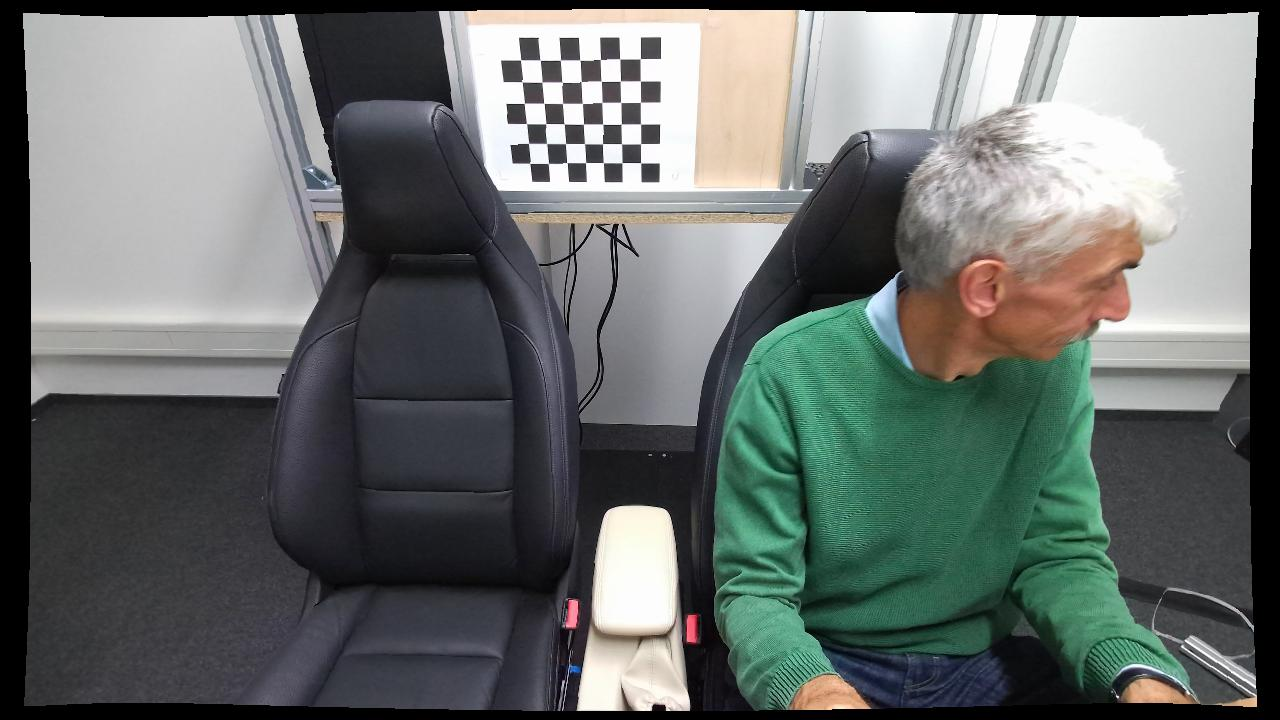Distracted: (698, 98, 1205, 709)
